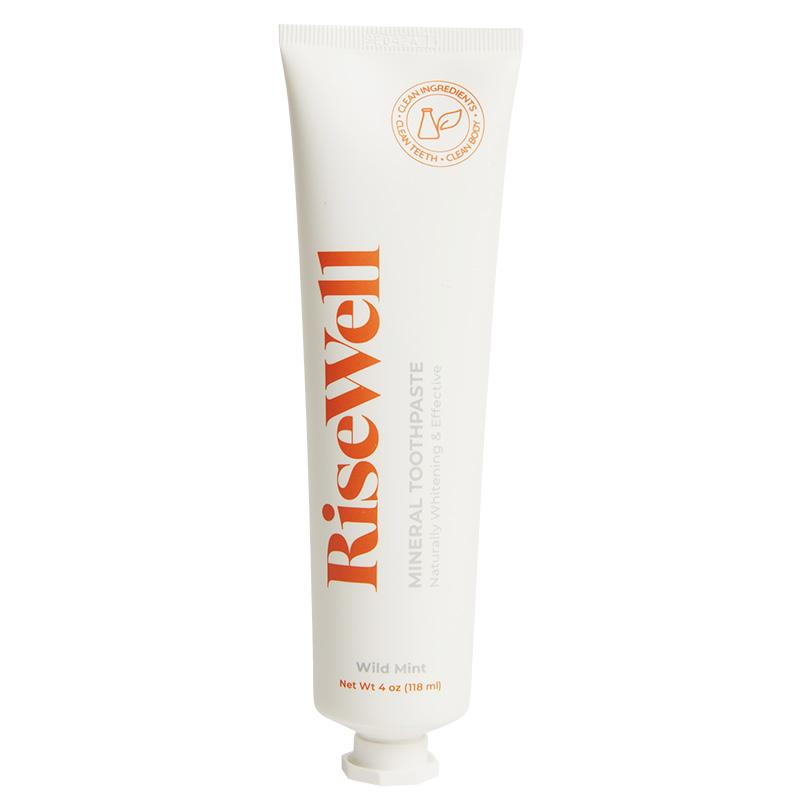toothpaste: (243, 0, 555, 794)
